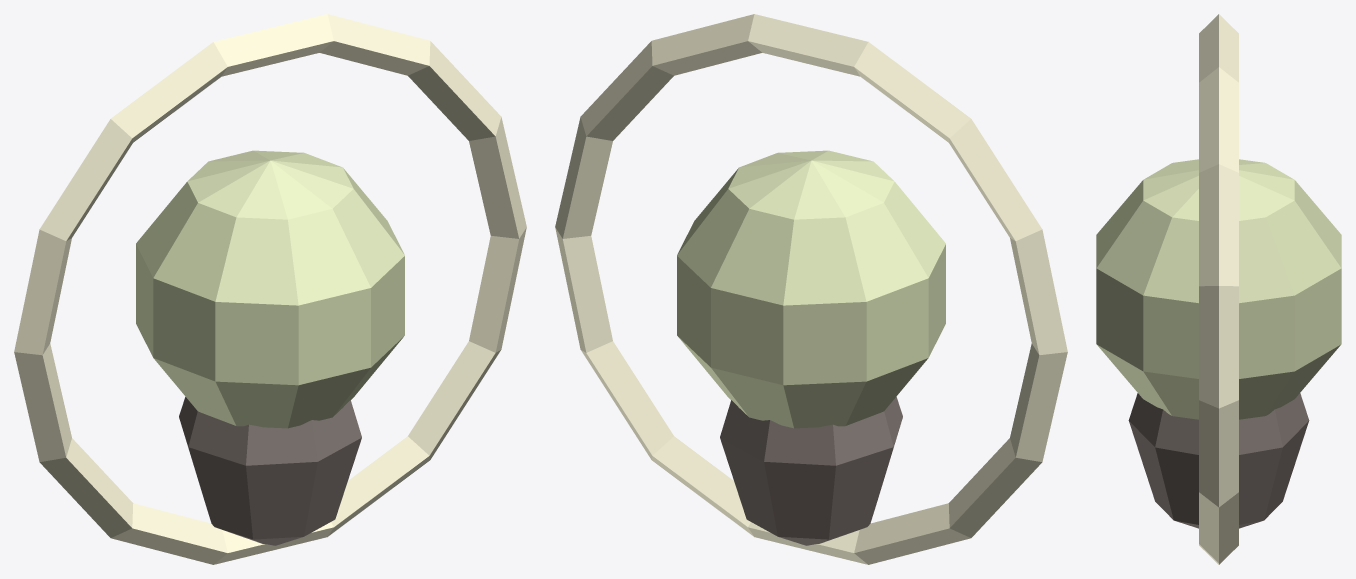
File: luciernaga.glb
3 views of the same model, side by side, from view 1: azimuth 30°, elevation 25°; view 2: azimuth 150°, elevation 25°; view 3: azimuth 270°, elevation 25° (orthographic). The views are drawn at different scales.
Visible parts, largest first — view 1: luciernaga; view 2: luciernaga; view 3: luciernaga.
Part boxes in pixels (<box>): luciernaga: <box>14,14,526,564</box>; luciernaga: <box>555,14,1067,564</box>; luciernaga: <box>1096,14,1341,564</box>.
Size of the model in its own units: 0.312 by 0.3042 by 0.1357.
